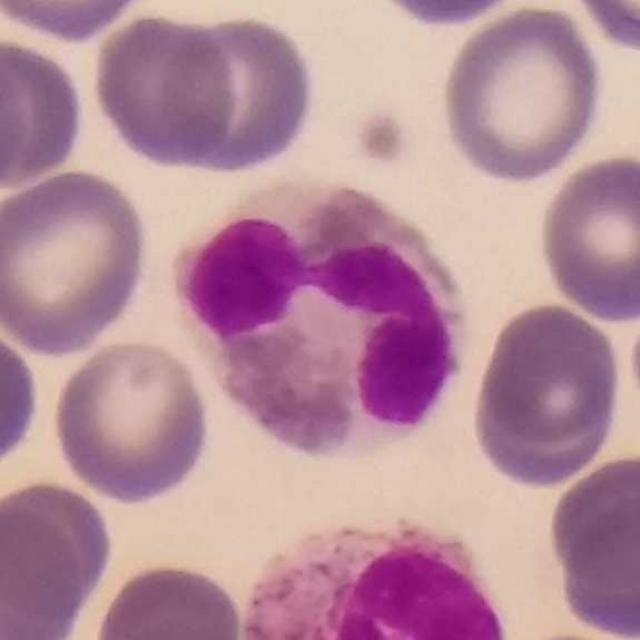eosino: (172, 164, 471, 464), (237, 487, 522, 640)
